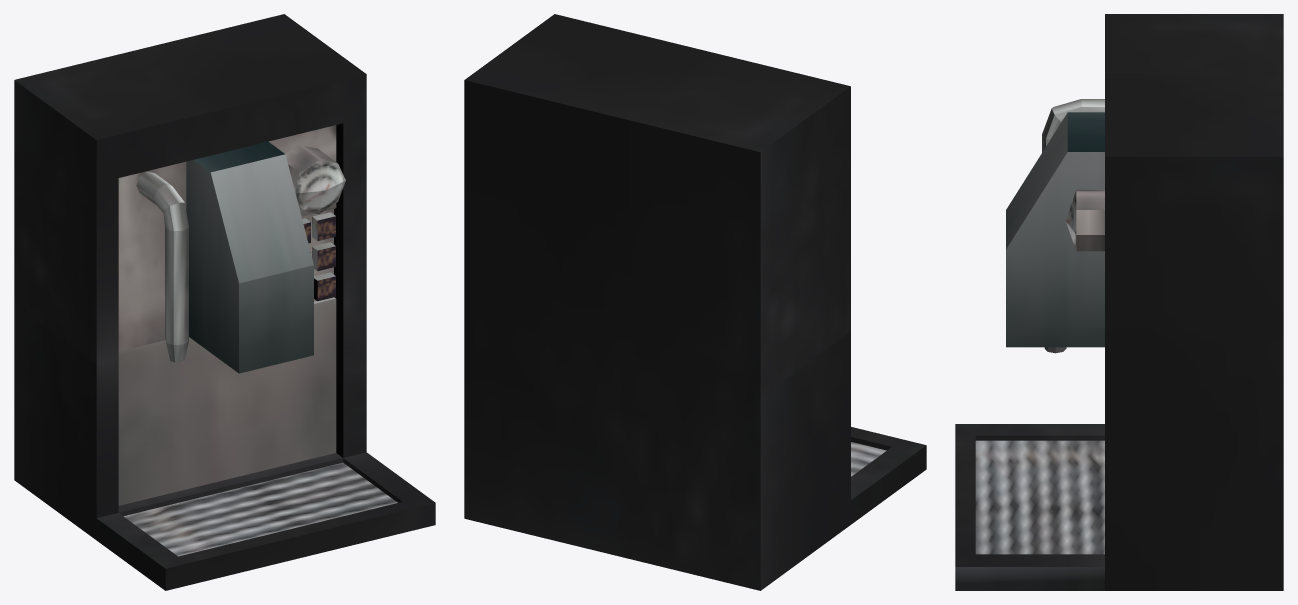
The model's file is CoffeeStuff.fbx.
3 renders of one model, left to right at view 1: azimuth 30°, elevation 25°; view 2: azimuth 150°, elevation 25°; view 3: azimuth 270°, elevation 25°, orthographic. The views are drawn at different scales.
Visible parts, largest first — view 1: Coffee Machine; view 2: Coffee Machine; view 3: Coffee Machine.
Part boxes in pixels (x1,y1,x2,y2): Coffee Machine: (14,14,435,590); Coffee Machine: (464,14,926,590); Coffee Machine: (955,14,1283,590).
Size of the model in its own units: 33.93 by 32.91 by 48.02.
